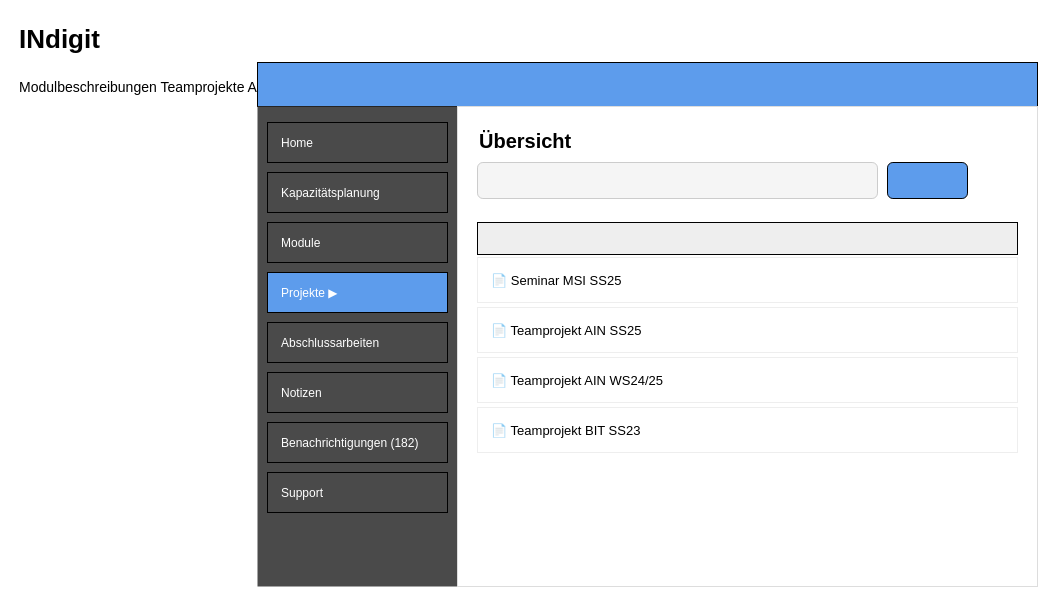
The diagram is 1055 pixels wide and 604 high, and some of its shapes have lost their labels. Each missing label, with the centre of its shape:
Projektrahmen: the point at 747,238
Suche: the point at 927,180
☰ INdigit: the point at 647,84
🔍 Suche …: the point at 677,180
